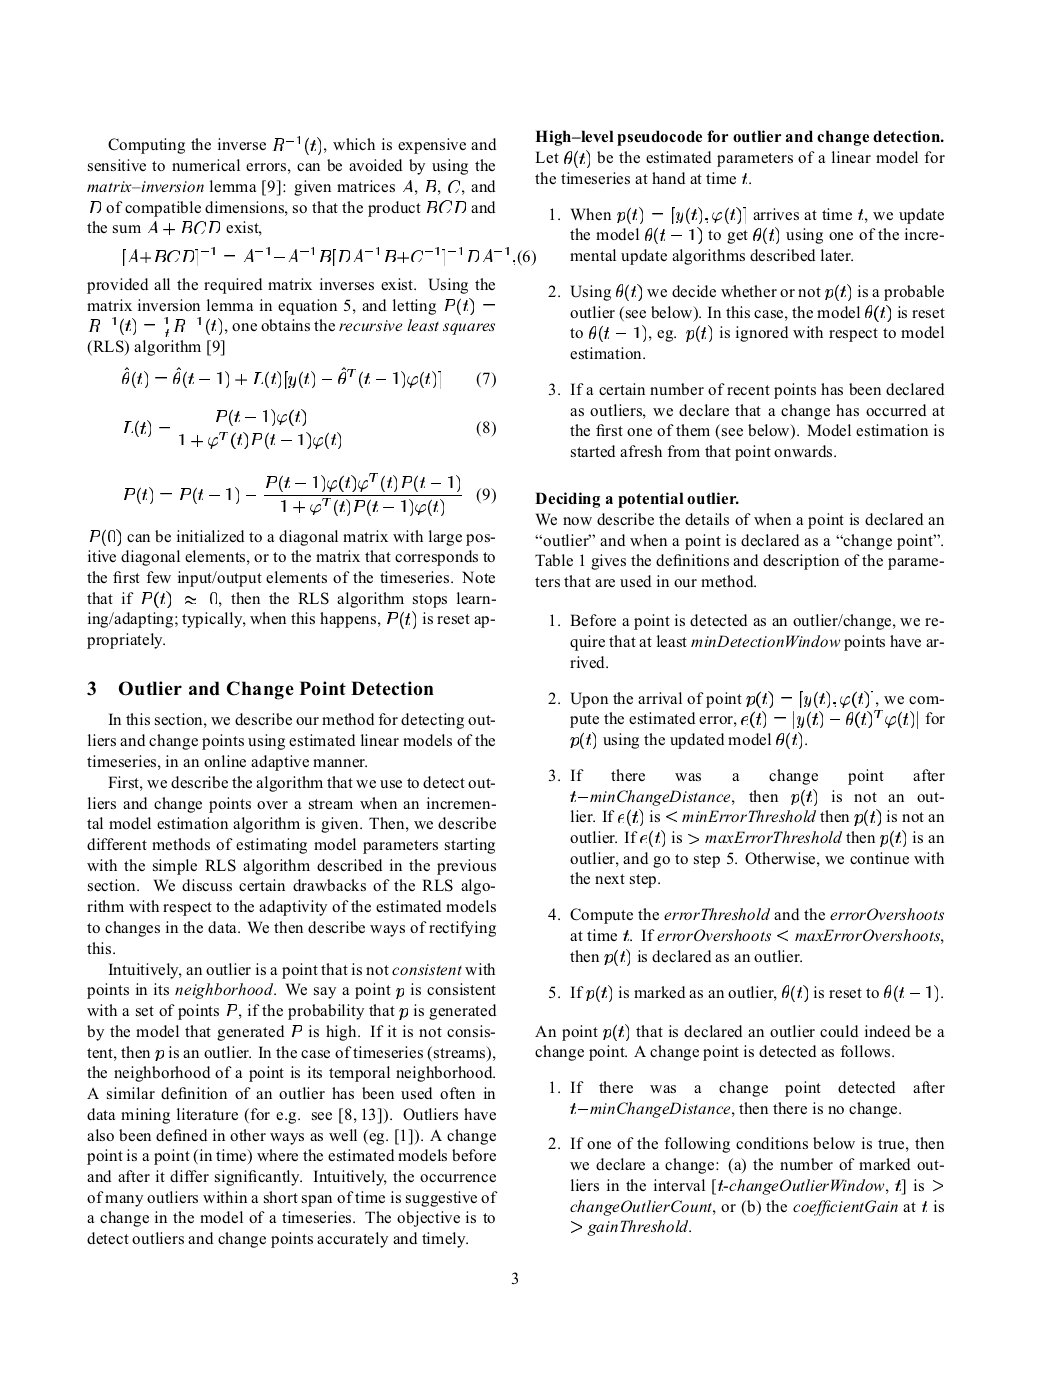formula: (124, 473, 495, 516), (124, 409, 495, 448), (121, 367, 495, 388), (123, 247, 535, 265)
